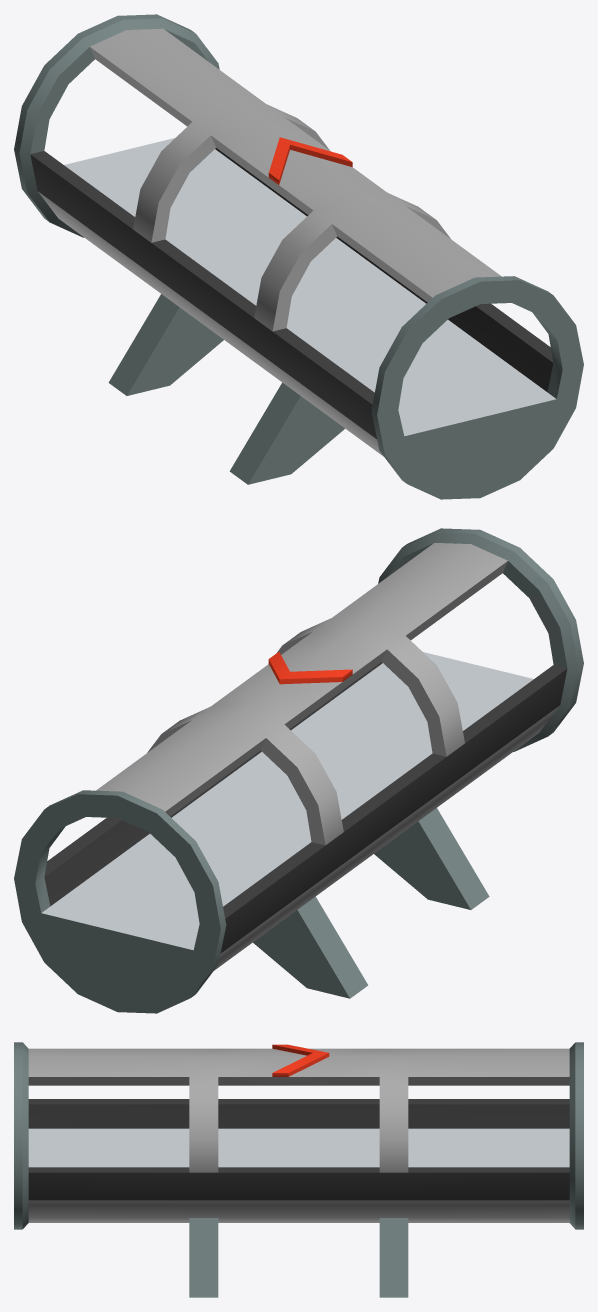
File: m_ConveyorHousing.fbx
3 views of the same model, one above another, from view 1: azimuth 30°, elevation 25°; view 2: azimuth 150°, elevation 25°; view 3: azimuth 270°, elevation 25° (orthographic). The views are drawn at different scales.
Visible parts, largest first — view 1: ConveyorHousing; view 2: ConveyorHousing; view 3: ConveyorHousing.
Boxes of the visible parts, x1,y1,x2,y2 form: ConveyorHousing: (14,14,583,499); ConveyorHousing: (14,528,583,1013); ConveyorHousing: (14,1042,583,1297).
Bounding box in the file's own units: 38.42 × 38.83 × 100.
